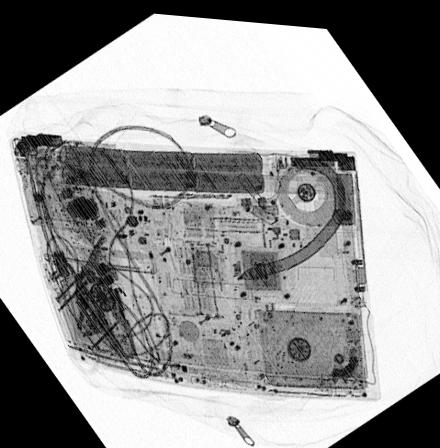Scissors: (36, 228, 135, 373)
